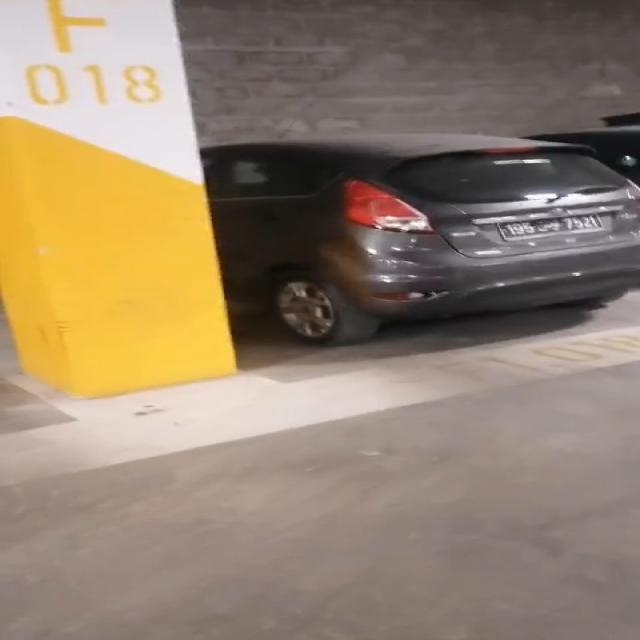licence plate: (500, 215, 601, 237)
